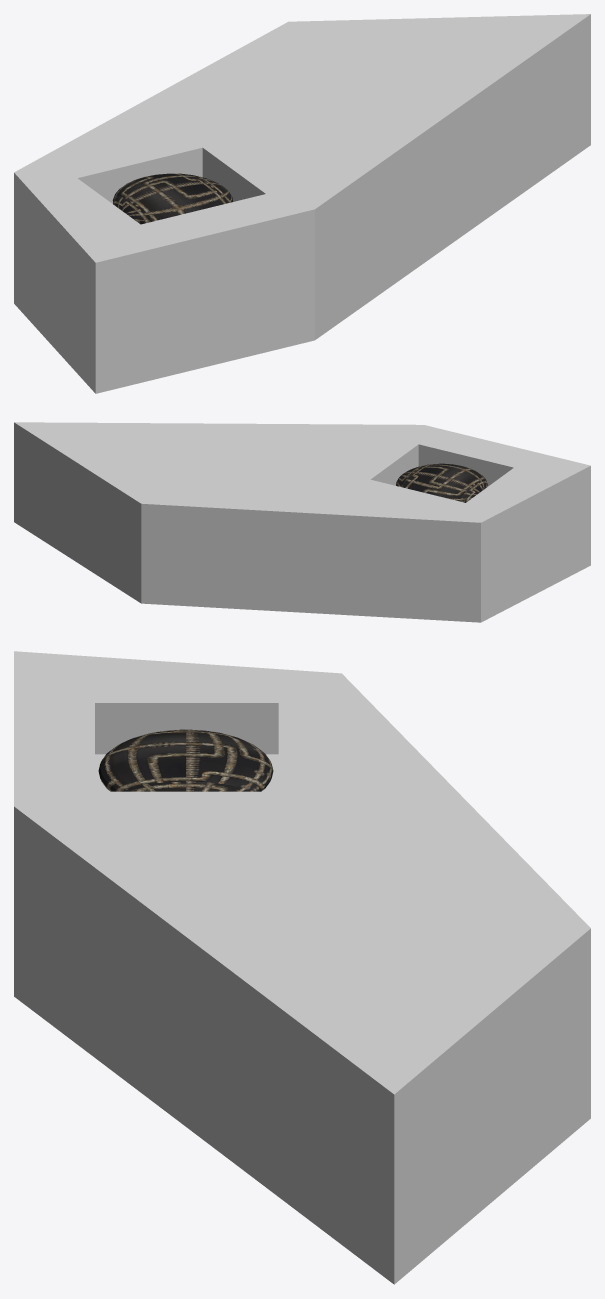
The model's file is engine1.gltf.
The picture shows the model from 3 angles, top to bottom: view 1: azimuth 30°, elevation 25°; view 2: azimuth 150°, elevation 25°; view 3: azimuth 270°, elevation 25°; orthographic projection. The views are drawn at different scales.
Visible parts, largest first — view 1: Base, Spinner; view 2: Base, Spinner; view 3: Base, Spinner.
Boxes of the visible parts, x1,y1,x2,y2 form: Base: (14, 14, 590, 393); Spinner: (112, 173, 232, 224); Base: (14, 422, 590, 622); Spinner: (396, 463, 487, 502); Base: (14, 651, 590, 1284); Spinner: (98, 729, 273, 791).
Size of the model in its own units: 4 by 0.8 by 2.2.
Materials: 2 (1 with a texture image).
